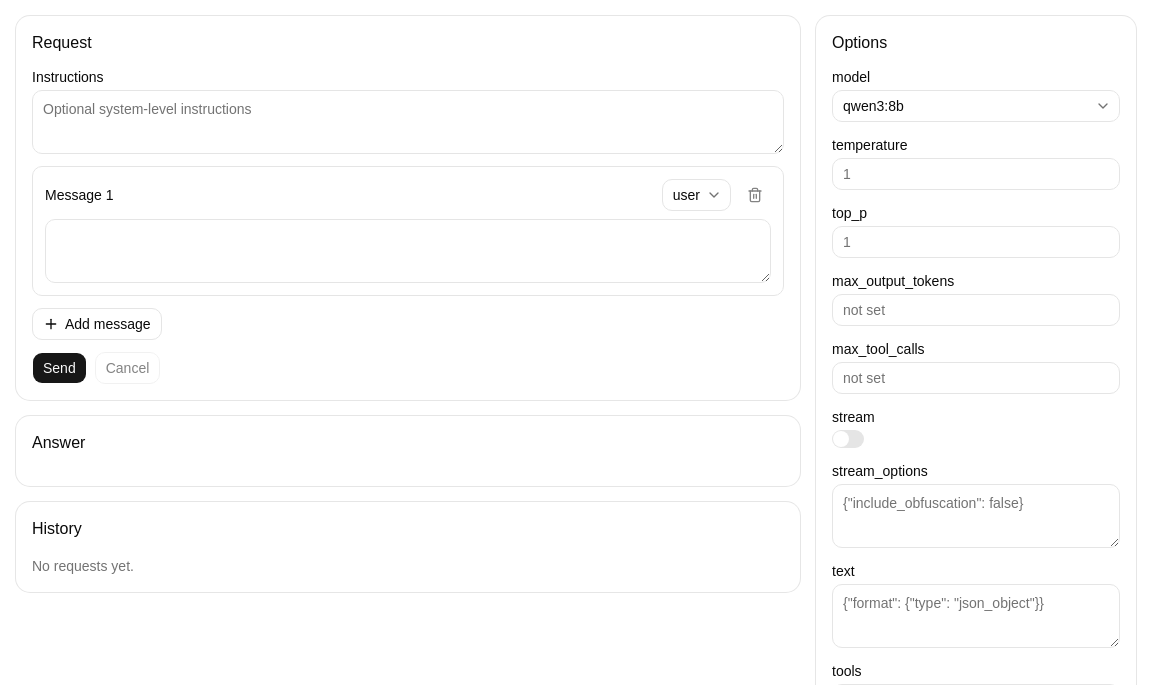
a non-streamed request shows the full answer and builds the body
The image size is (1152, 685).
expect the dropdown named "model" shows "qwen3:8b": met, box [832,90,1120,122]
Type "Hello" into the text box labelled "Message 1" at (408, 251), box [45,219,771,283]
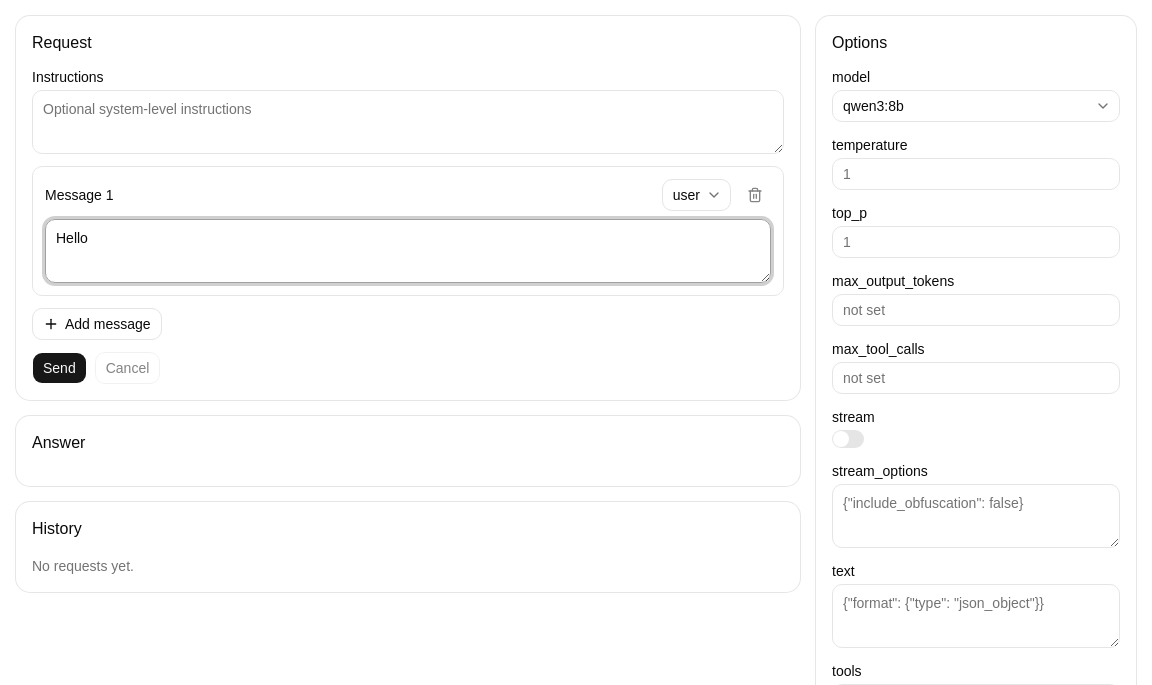
Type "Be brief" into the text box labelled "Instructions" at (408, 122), box [32,90,784,154]
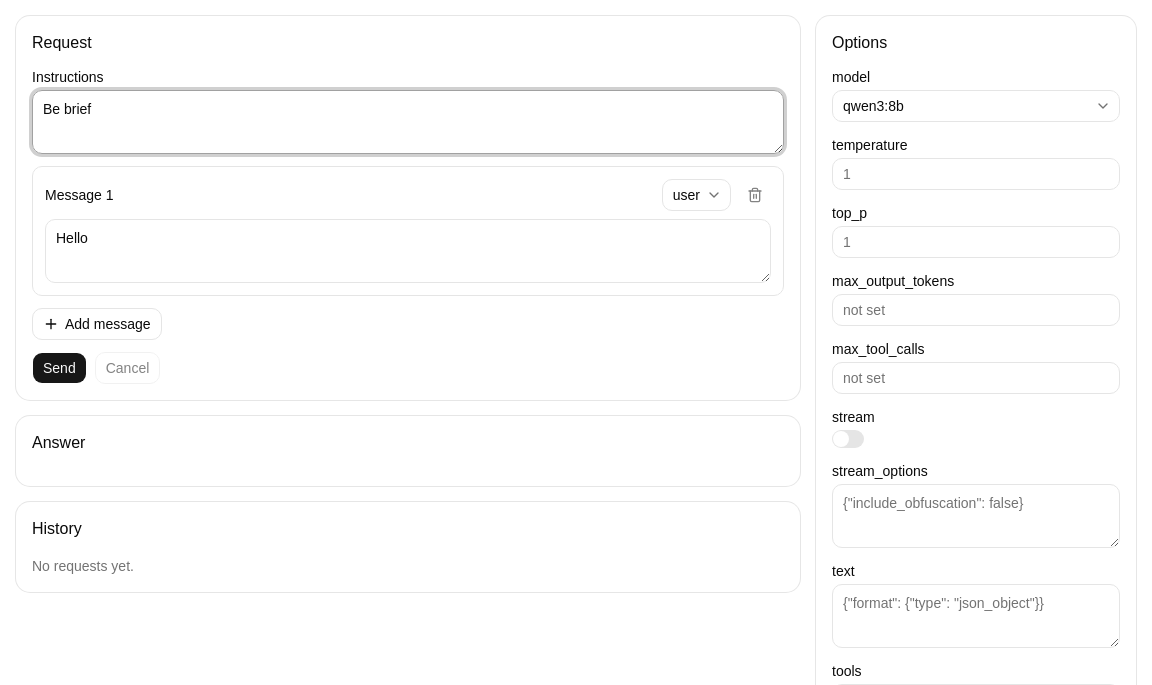
Type "0.2" into the field labelled "temperature" at (976, 174), box [832,158,1120,190]
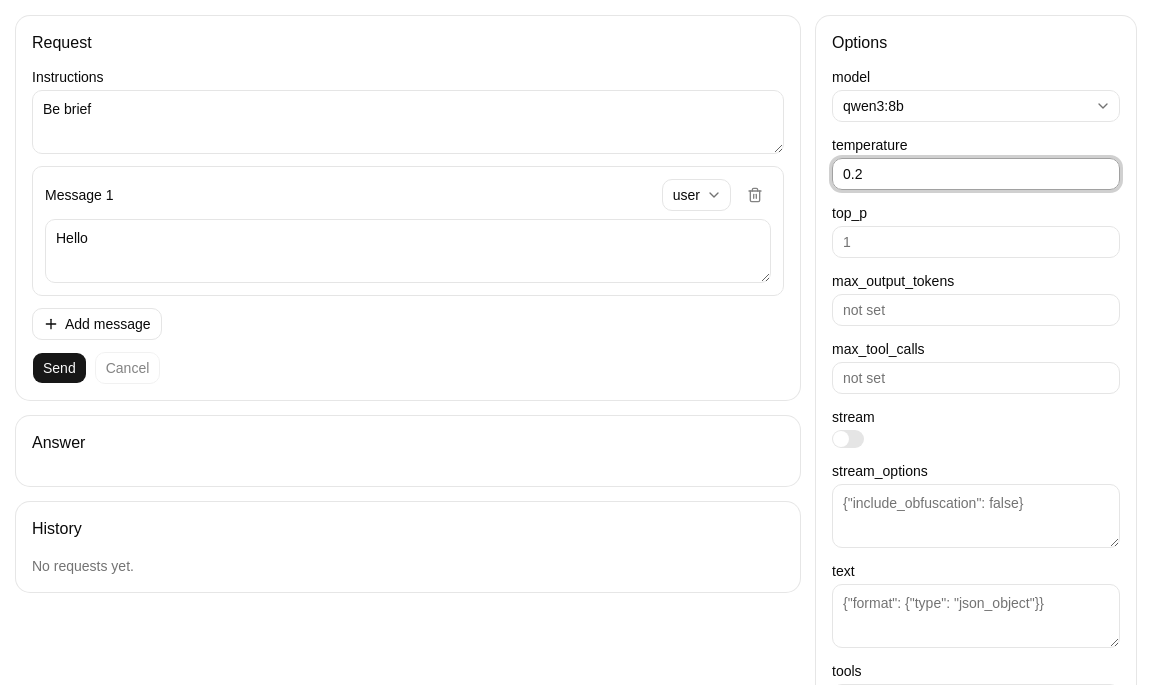
Click the button "Send" at (59, 368), box [32,352,87,384]
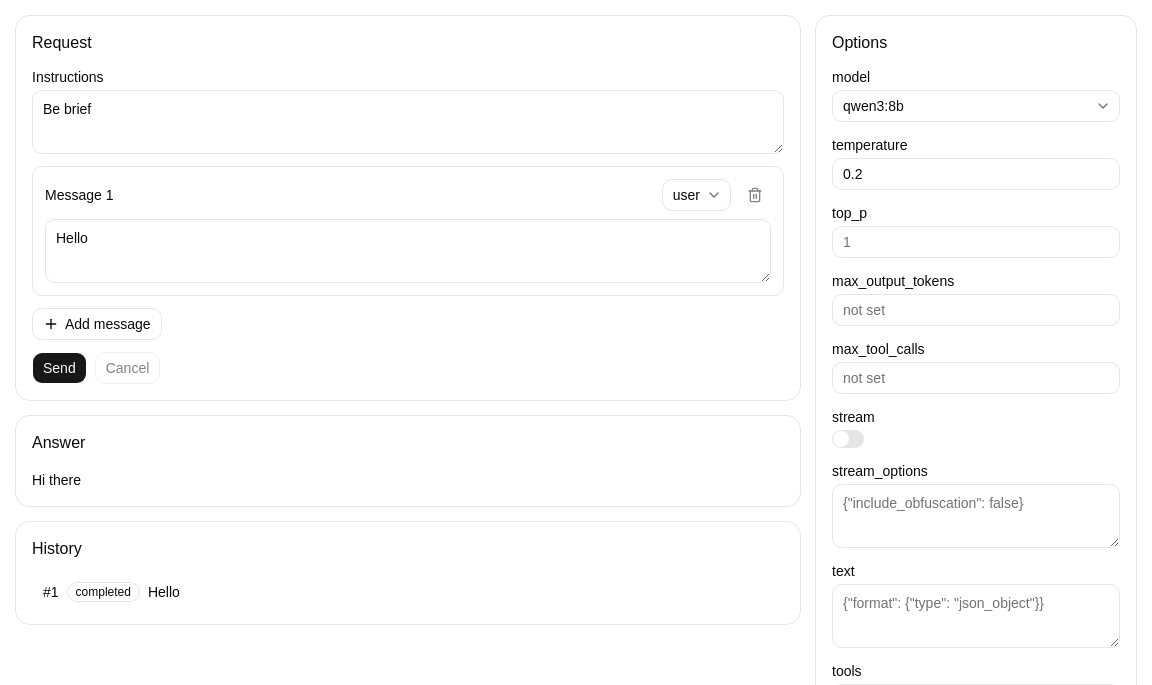
expect the text "Hi there" is shown: met, box [32,472,81,488]
expect the button "#1 completed Hello" is shown: met, box [32,576,784,608]
